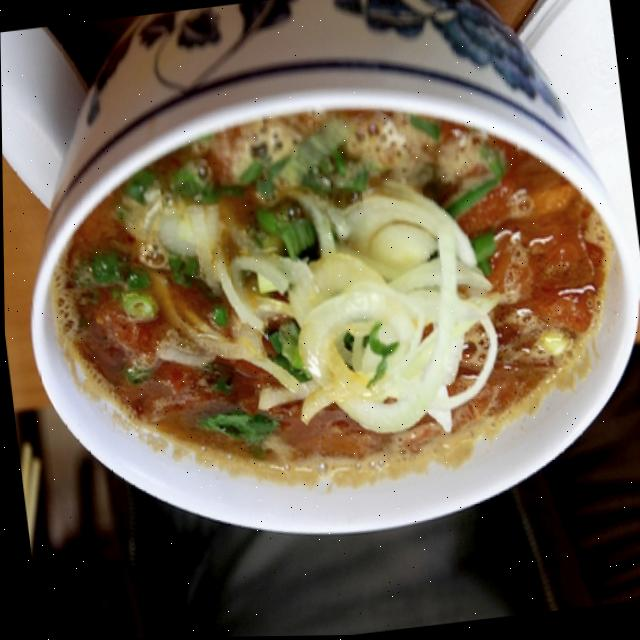面条主食: (13, 7, 638, 569)
